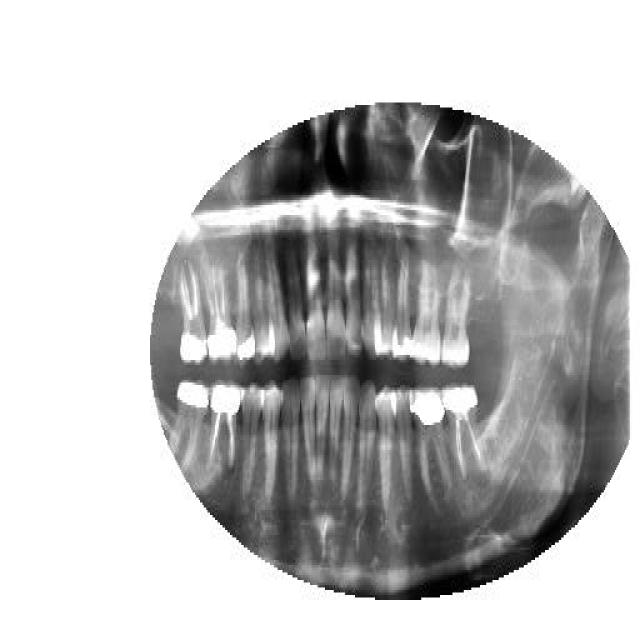Fillings: (408, 385, 452, 513), (170, 380, 208, 472), (390, 247, 412, 365), (236, 255, 255, 367)
Implant: (440, 380, 486, 478), (206, 263, 239, 365), (176, 257, 206, 365), (208, 380, 242, 472)
